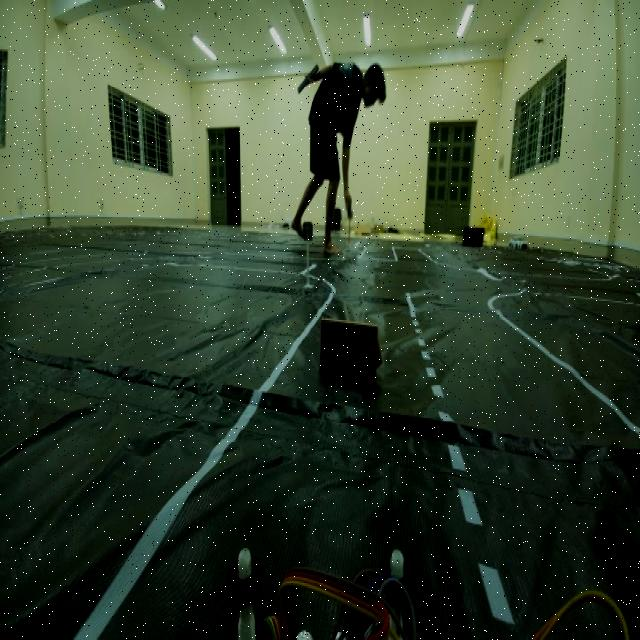roadblock: (317, 308, 390, 403)
